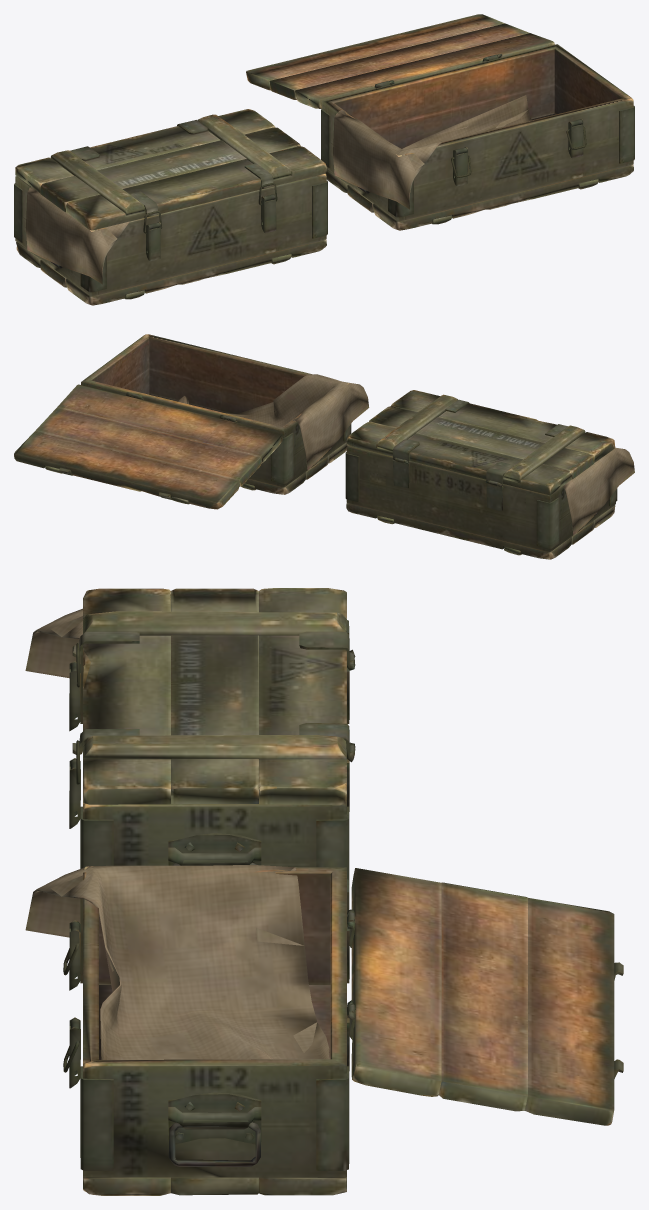
Rendered from crate_b-B7RAypzV.glb.
3 views of the same model, one above another, from view 1: azimuth 30°, elevation 25°; view 2: azimuth 150°, elevation 25°; view 3: azimuth 270°, elevation 25° (orthographic). The views are drawn at different scales.
Parts seen in each view (by area): view 1: old_military_crate_b, old_military_crate_lid_a, old_military_crate_a, old_military_crate_lid_b, old_military_crate_cloth_b, old_military_crate_cloth_a, old_military_crate_latch_a, old_military_crate_latch_b; view 2: old_military_crate_lid_b, old_military_crate_lid_a, old_military_crate_a, old_military_crate_b, old_military_crate_cloth_b, old_military_crate_cloth_a; view 3: old_military_crate_lid_a, old_military_crate_lid_b, old_military_crate_b, old_military_crate_cloth_b, old_military_crate_a, old_military_crate_cloth_a, old_military_crate_latch_b, old_military_crate_latch_a.
Part boxes in pixels (left/top/right/bottom): old_military_crate_b: left=321, top=44, right=634, bottom=230; old_military_crate_lid_a: left=15, top=109, right=326, bottom=230; old_military_crate_a: left=14, top=173, right=327, bottom=305; old_military_crate_lid_b: left=246, top=14, right=554, bottom=108; old_military_crate_cloth_b: left=333, top=95, right=532, bottom=209; old_military_crate_cloth_a: left=25, top=187, right=129, bottom=284; old_military_crate_latch_a: left=146, top=194, right=276, bottom=261; old_military_crate_latch_b: left=453, top=119, right=583, bottom=186; old_military_crate_lid_b: left=14, top=384, right=282, bottom=509; old_military_crate_lid_a: left=346, top=390, right=615, bottom=495; old_military_crate_a: left=345, top=446, right=617, bottom=559; old_military_crate_b: left=81, top=334, right=351, bottom=494; old_military_crate_cloth_b: left=177, top=374, right=369, bottom=470; old_military_crate_cloth_a: left=562, top=447, right=634, bottom=535; old_military_crate_lid_a: left=72, top=588, right=355, bottom=805; old_military_crate_lid_b: left=347, top=868, right=623, bottom=1125; old_military_crate_b: left=80, top=866, right=355, bottom=1195; old_military_crate_cloth_b: left=25, top=865, right=329, bottom=1059; old_military_crate_a: left=80, top=620, right=355, bottom=884; old_military_crate_cloth_a: left=25, top=608, right=82, bottom=678; old_military_crate_latch_b: left=69, top=920, right=80, bottom=1088; old_military_crate_latch_a: left=69, top=660, right=80, bottom=828.
Size of the model in its own units: 1.81 by 0.3009 by 0.9744.
1 material, 1 textured.
